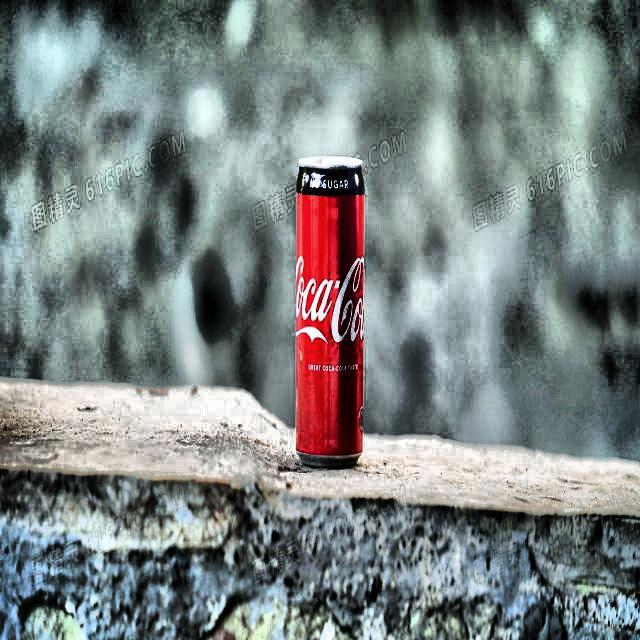can: (290, 146, 375, 475)
